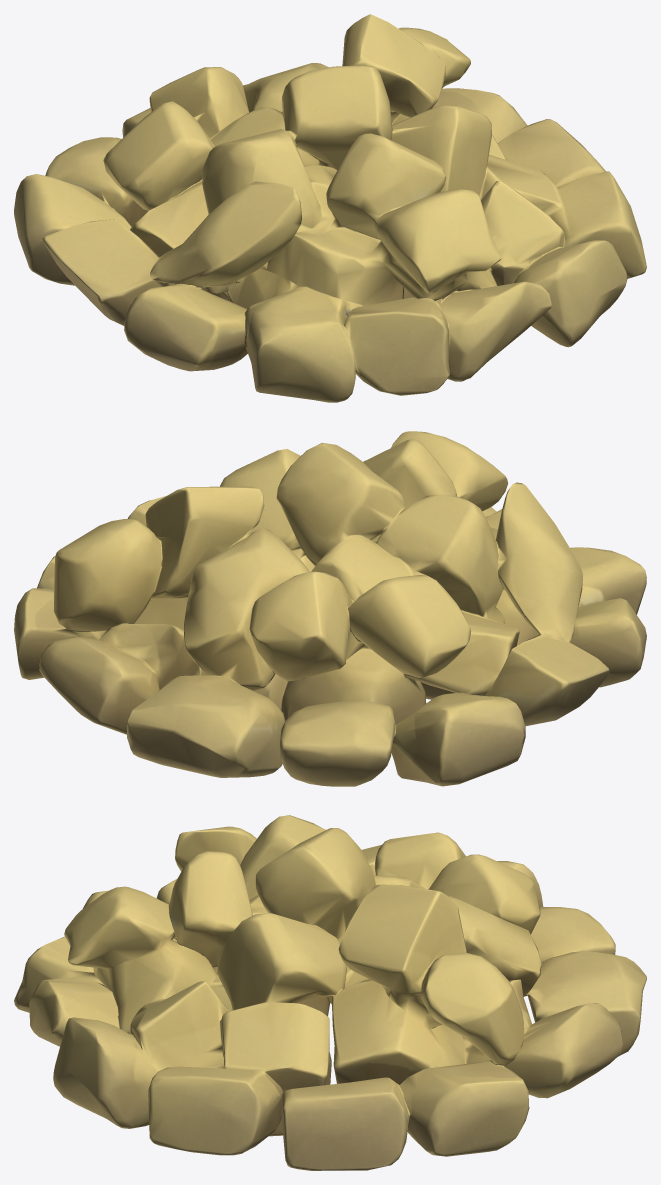
The model's file is Papa_Cocida.fbx.
The picture shows the model from 3 angles, top to bottom: view 1: azimuth 30°, elevation 25°; view 2: azimuth 150°, elevation 25°; view 3: azimuth 270°, elevation 25°; orthographic projection. The views are drawn at different scales.
Visible parts, largest first — view 1: Mesh_0; view 2: Mesh_0; view 3: Mesh_0.
Boxes of the visible parts, <box> form: Mesh_0: <box>14,14,646,402</box>; Mesh_0: <box>14,431,646,786</box>; Mesh_0: <box>14,815,646,1170</box>.
Bounding box in the file's own units: 183 × 77.52 × 190.
Materials: 1 (1 with a texture image).
